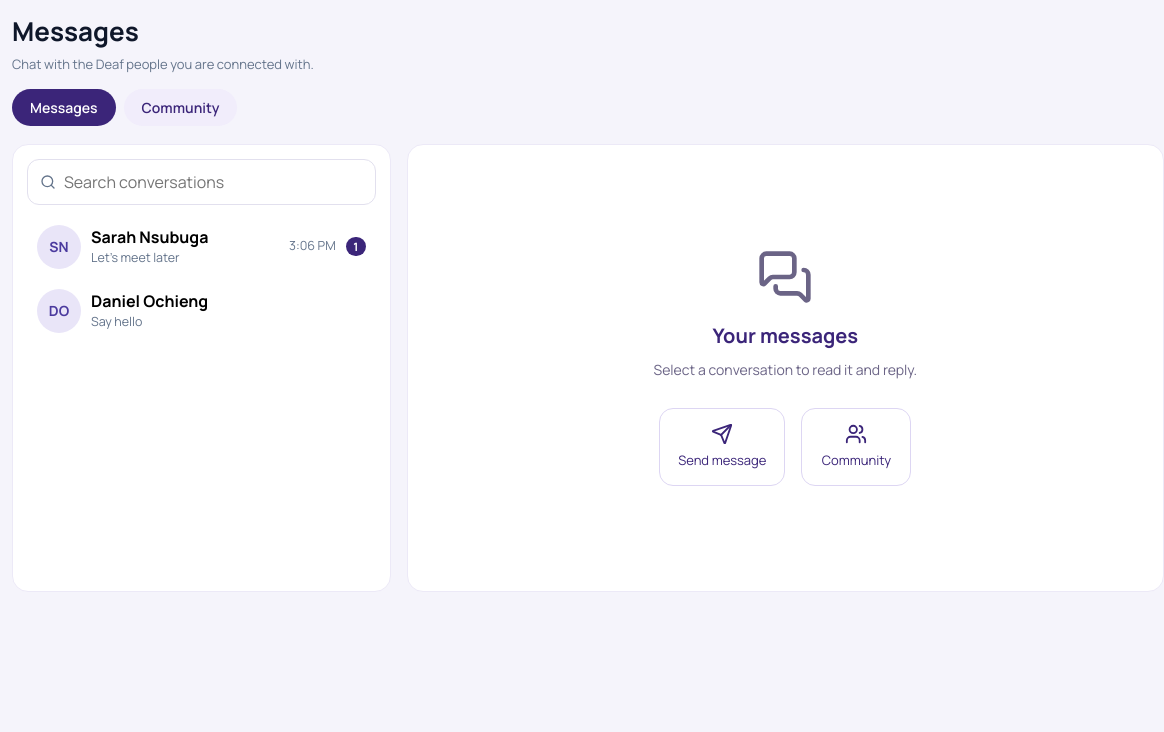
Scenario: MessagesPage › lists the conversations until one is picked, then shows only that chat
Expected: the text "Say hello" is shown, [91,313,142,330]
Expected: the search field labelled "Search conversations" is shown, [64,160,363,204]
What coordinates should you click on to do the following:
click the button "SN Sarah Nsubuga Let’s meet later 3:06 PM 1"
I would click on:
 (201, 246)
Its box is [27,214,376,278].
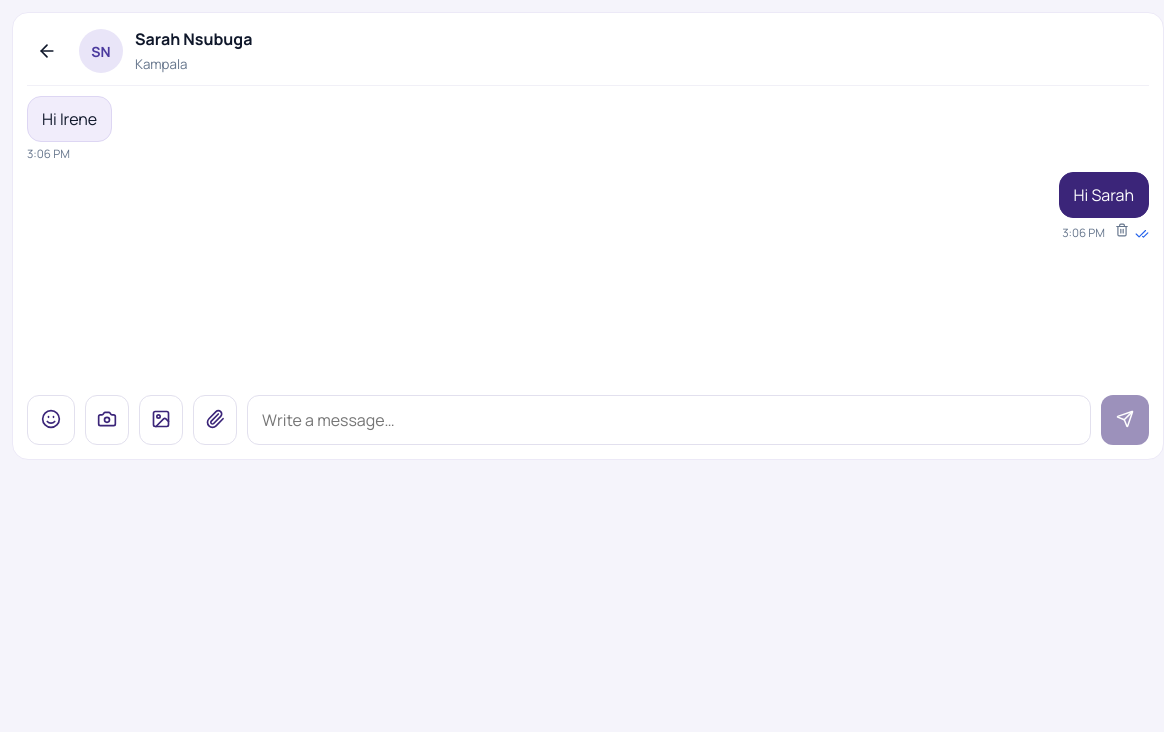
Expected: the text "Hi Irene" is shown, [27,96,112,142]
Expected: the search field labelled "Search conversations" is gone
Expected: the button "Daniel Ochieng" is gone
